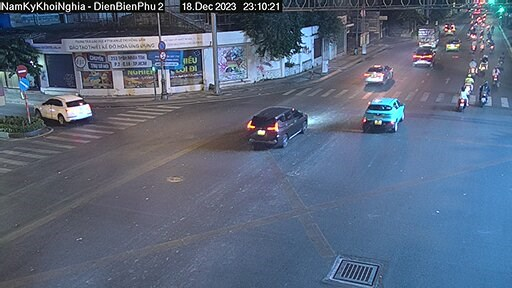car: (243, 97, 305, 149), (34, 85, 96, 132), (362, 92, 407, 133), (360, 58, 394, 87), (409, 45, 438, 70), (446, 37, 463, 54)
truck: (414, 23, 444, 46)
